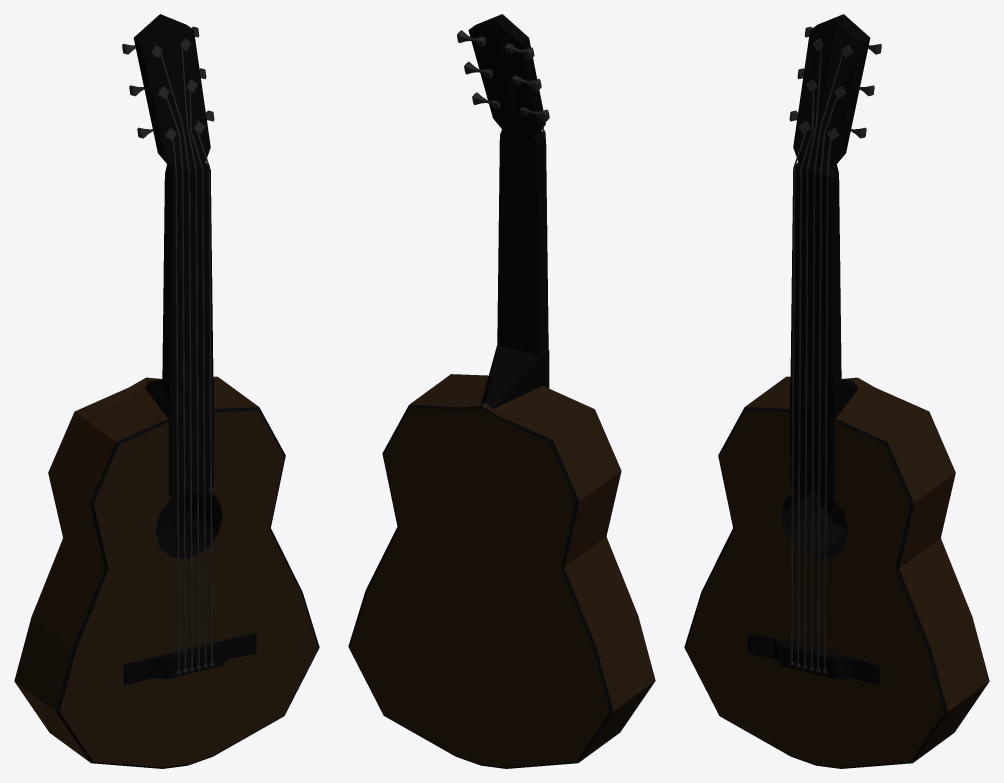
File: Guitar1.obj
3 views of the same model, side by side, from view 1: azimuth 30°, elevation 25°; view 2: azimuth 150°, elevation 25°; view 3: azimuth 330°, elevation 25° (orthographic).
Parts seen in each view (by area): view 1: Guitar1_Cube.001; view 2: Guitar1_Cube.001; view 3: Guitar1_Cube.001.
Boxes of the visible parts, x1,y1,x2,y2 form: Guitar1_Cube.001: (14,14,319,768); Guitar1_Cube.001: (348,14,655,768); Guitar1_Cube.001: (684,14,989,768).
Bounding box in the file's own units: 0.4811 × 1.28 × 0.1623.
